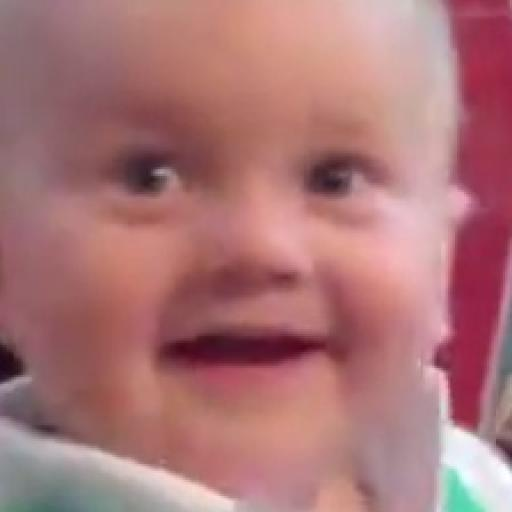Autism: (13, 9, 497, 490)
